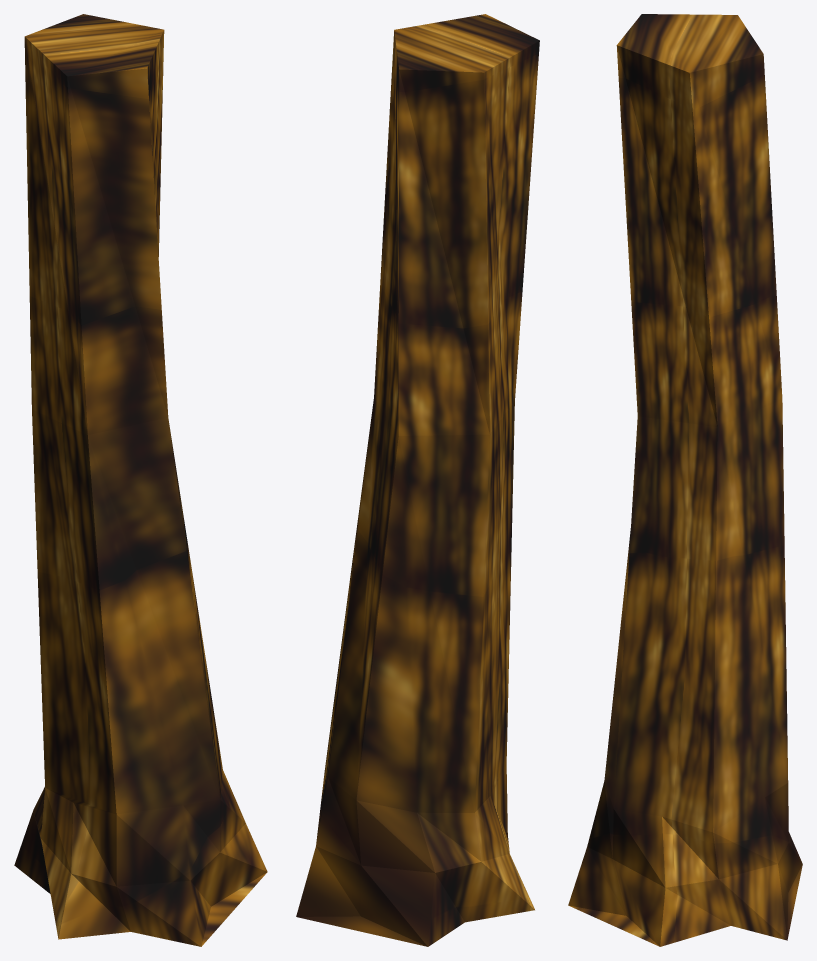
The model's file is MTree_8.gltf.
3 views of the same model, side by side, from view 1: azimuth 30°, elevation 25°; view 2: azimuth 150°, elevation 25°; view 3: azimuth 270°, elevation 25° (orthographic). The views are drawn at different scales.
Visible parts, largest first — view 1: MTree_8; view 2: MTree_8; view 3: MTree_8.
Part boxes in pixels (x1,y1,x2,y2): MTree_8: [14, 14, 267, 946]; MTree_8: [296, 14, 539, 946]; MTree_8: [568, 14, 802, 946].
Bounding box in the file's own units: 4.89 × 19.2 × 4.81.
Materials: 1 (1 with a texture image).
